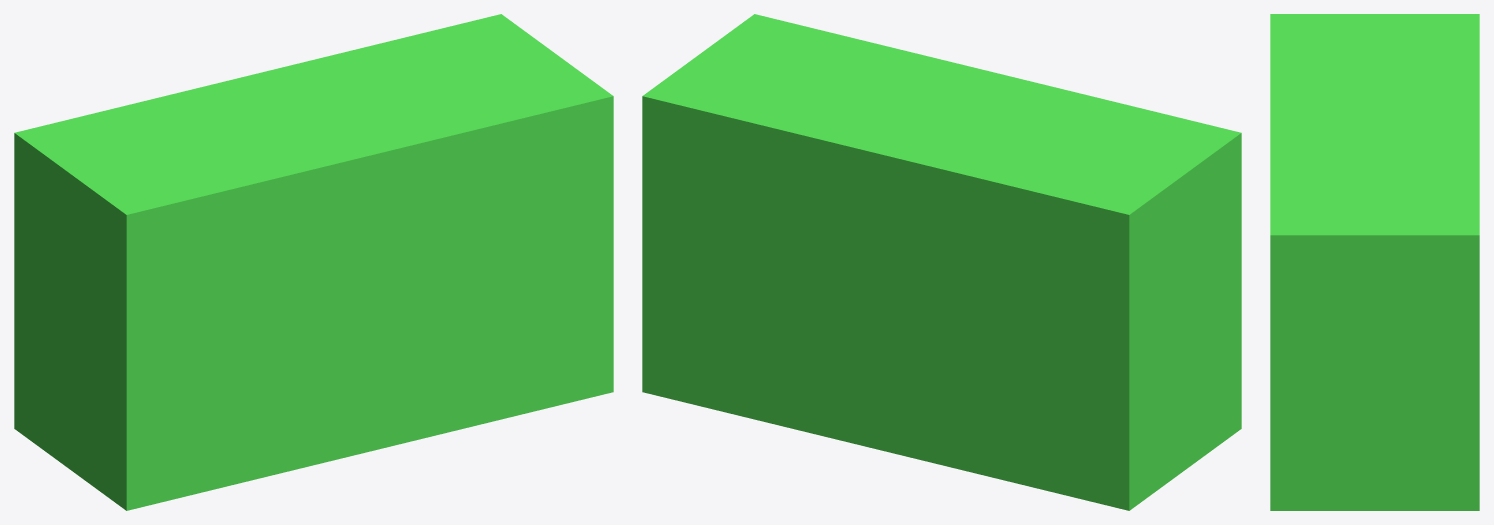
The model's file is body.gltf.
3 renders of one model, left to right at view 1: azimuth 30°, elevation 25°; view 2: azimuth 150°, elevation 25°; view 3: azimuth 270°, elevation 25°, orthographic. The views are drawn at different scales.
Parts seen in each view (by area): view 1: mesh94516, mesh94514, mesh94511; view 2: mesh94515, mesh94514, mesh94511; view 3: mesh94513, mesh94514.
Part boxes in pixels (x1,y1,x2,y2): mesh94516: (126, 96, 613, 510); mesh94514: (14, 14, 613, 214); mesh94511: (14, 133, 126, 510); mesh94515: (642, 96, 1129, 510); mesh94514: (642, 14, 1241, 214); mesh94511: (1129, 133, 1241, 510); mesh94513: (1270, 235, 1479, 510); mesh94514: (1270, 14, 1479, 235).
Bounding box in the file's own units: 0.0027 × 0.00157 × 0.00108.
